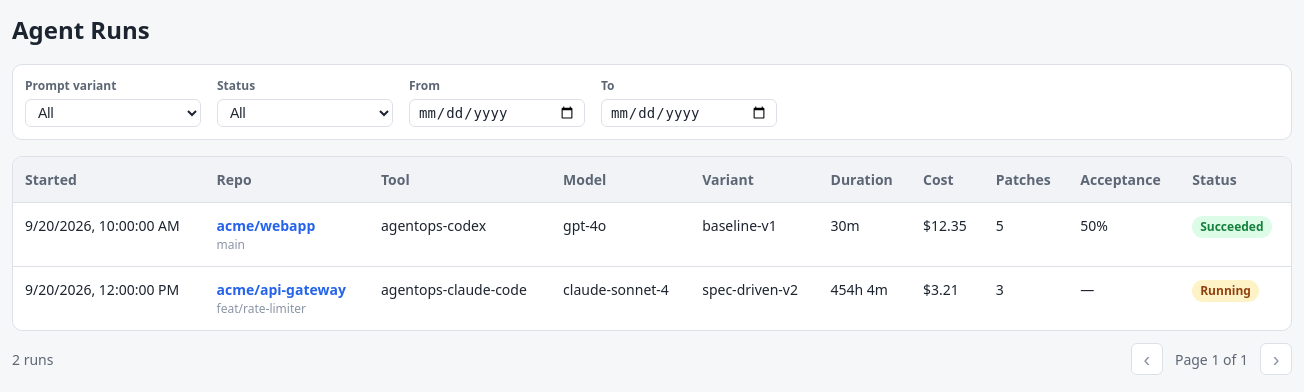
it: RunsPage › sends variant and status filters to the API and shows the filtered result
Check: the link "acme/webapp" is shown, box [216,216,315,235]
Select "baseline-v1" in the dropdown labelled "Prompt variant" at (113, 113), box [25,99,201,127]
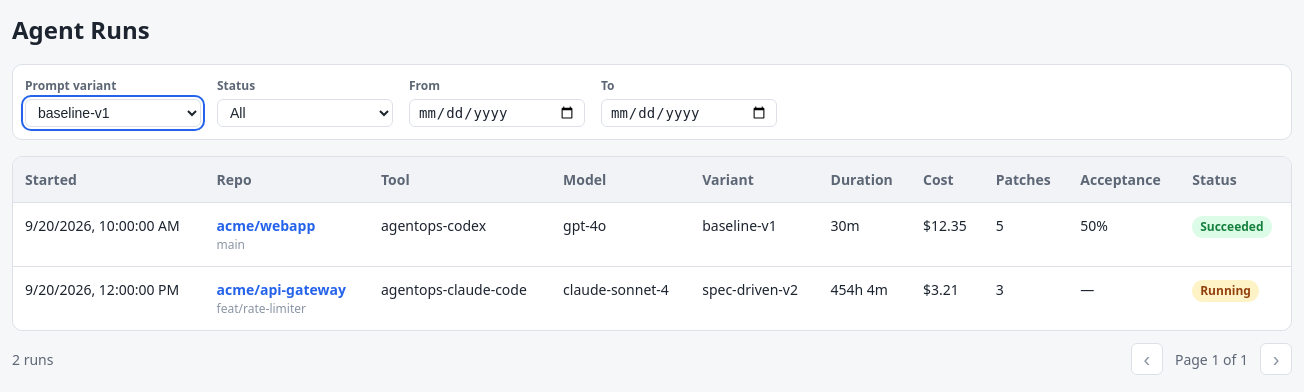
Select "Failed" in the dropdown labelled "Status" at (305, 113), box [217,99,393,127]
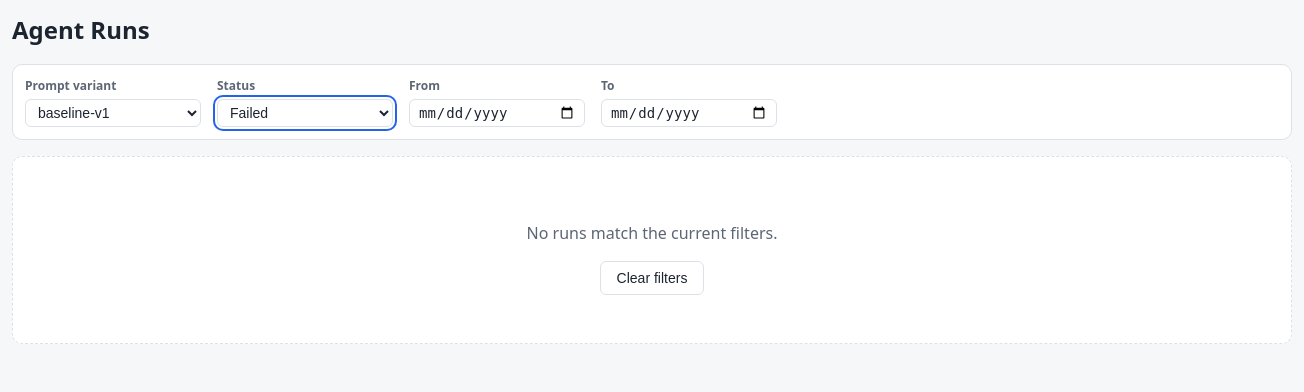
Check: the text "No runs match the current filters." is shown, box [526,222,777,244]
